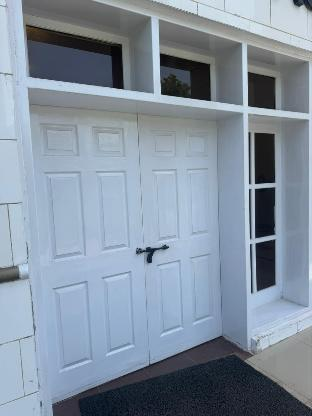door: (14, 0, 238, 416)
